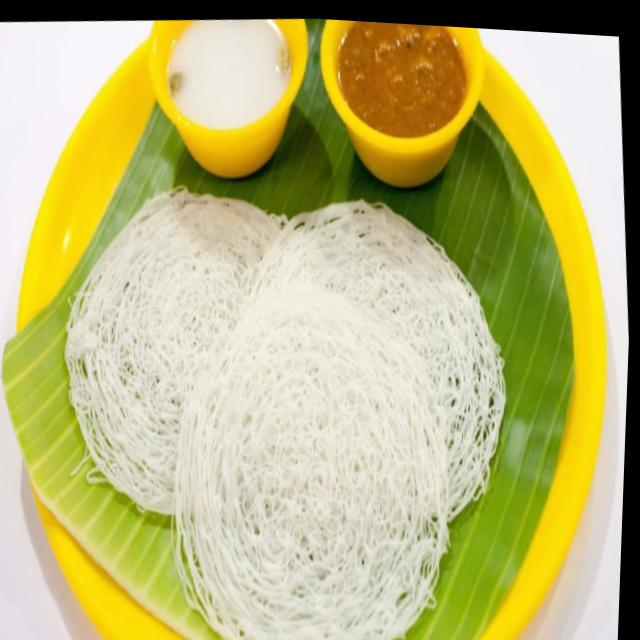IDIYAPPAM: (173, 291, 448, 640), (242, 199, 506, 524), (65, 188, 286, 516)
KURMA: (340, 22, 465, 133)
